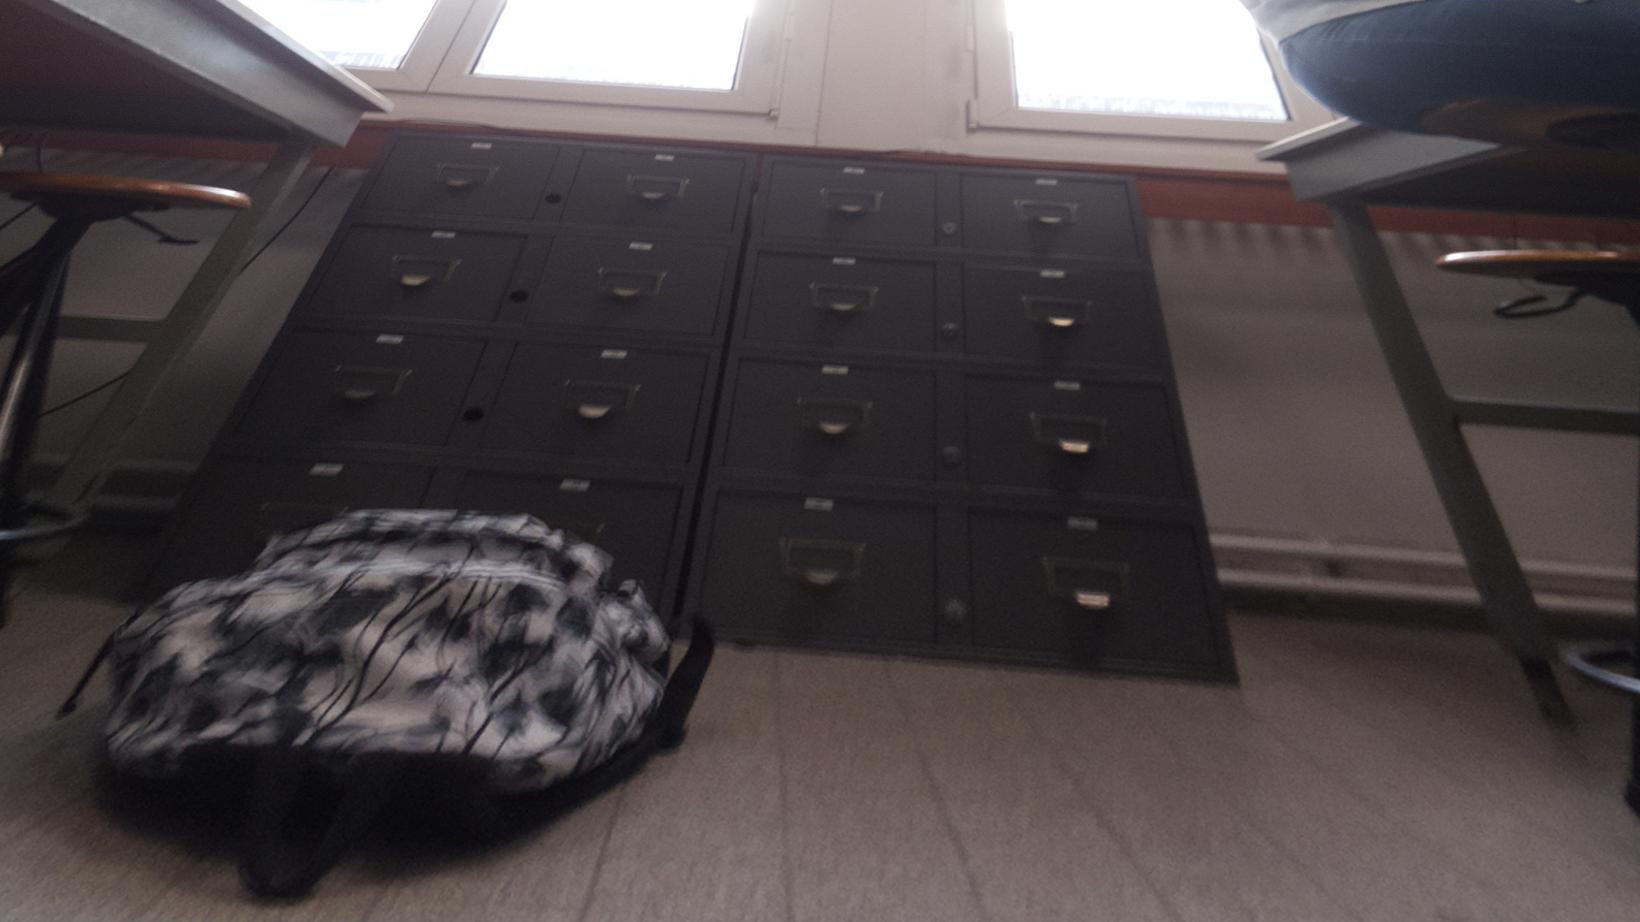big: (46, 492, 727, 908)
